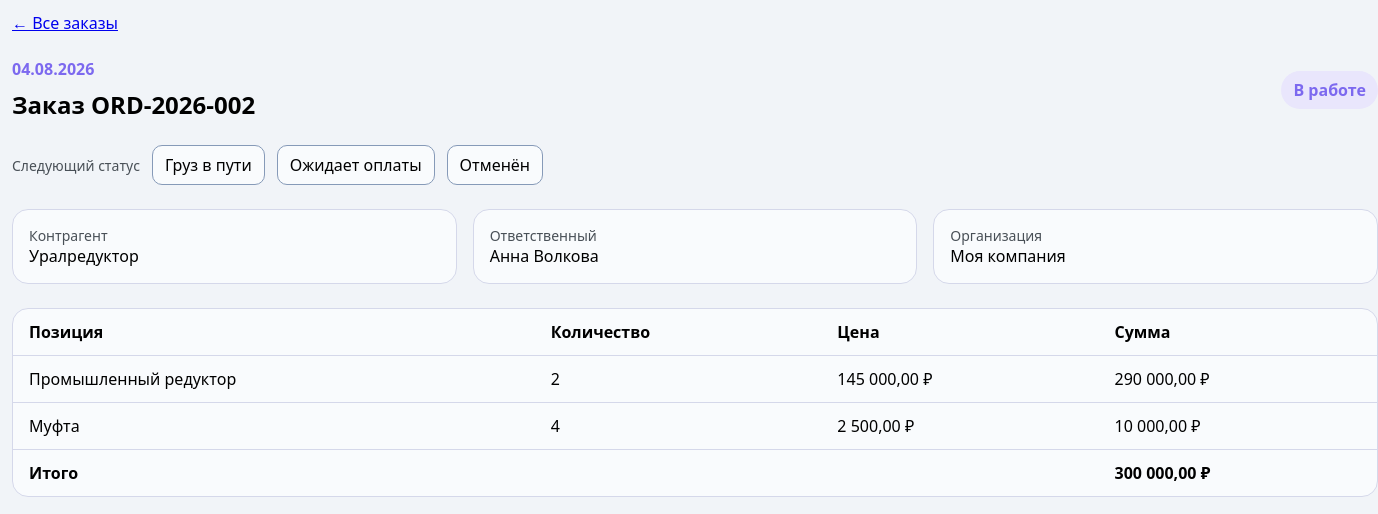
Test: Order detail › offers only valid Russian-labelled transitions and accepts the authoritative response
Expected: the element with test id "order-status-actions" shows "Груз в пути", [152,145,265,185]
Expected: the element with test id "order-status-actions" shows "Отменён", [447,145,543,185]
Click the button "Ожидает оплаты": (356, 165) [277,145,435,185]
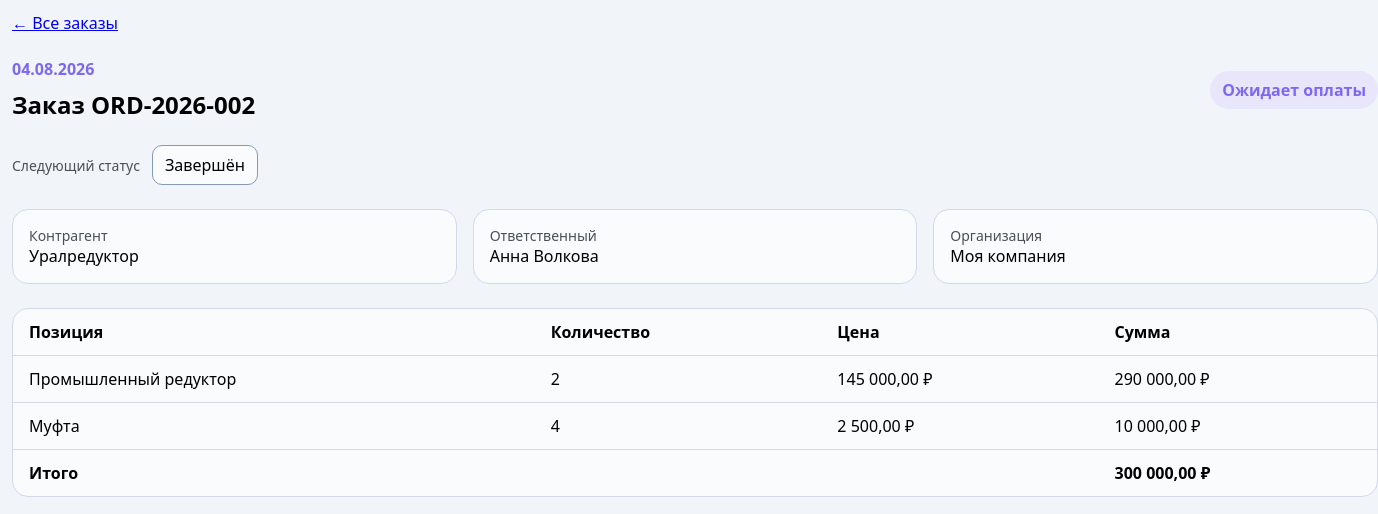
Expected: the text with class "order-detail__status" reads "Ожидает оплаты", [1222,78,1366,100]
Expected: the element with test id "order-status-actions" shows "Завершён", [152,145,258,185]
Expected: the number of buttons is 1, [152,145,258,185]
